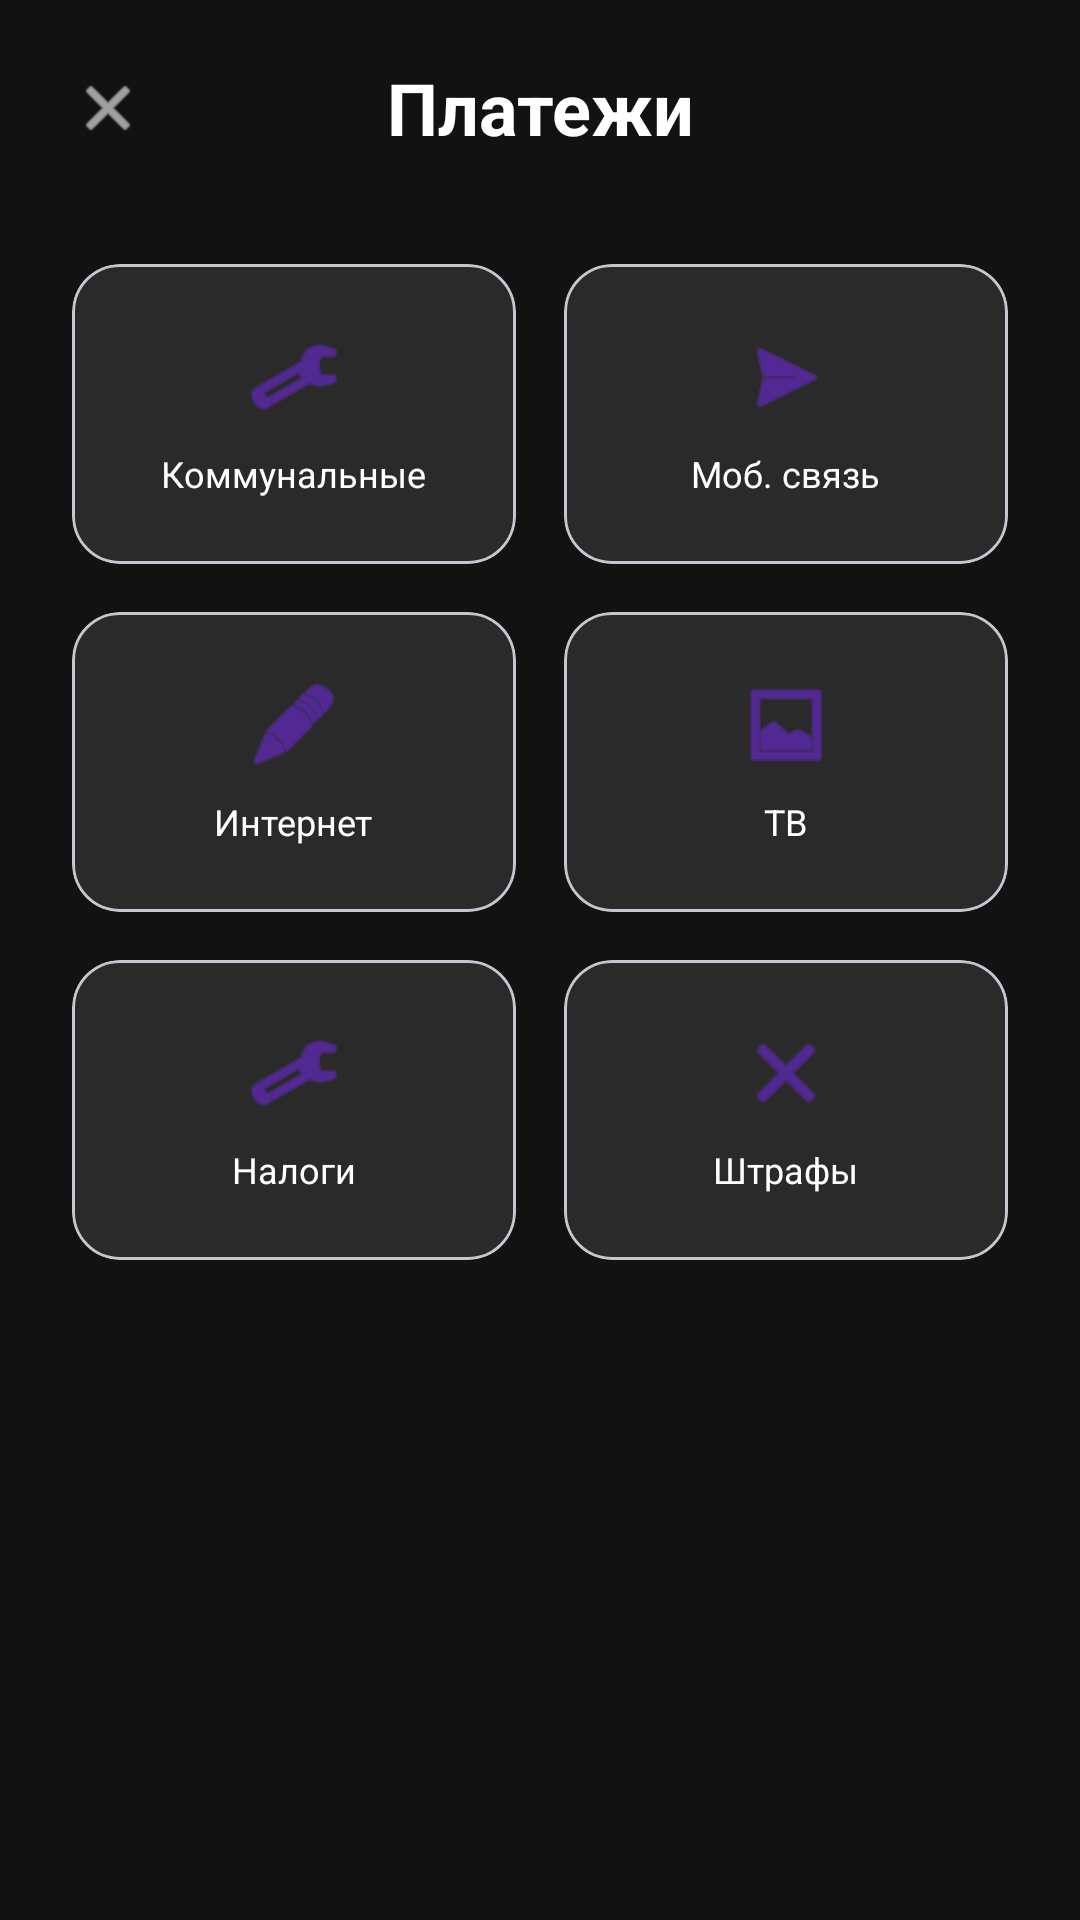

Screen size 1080×1920. Icon name, then its center in pixels as (x,y):
close clear cancel: (786,1073)
edit: (293,724)
gallery: (786,725)
manage: (294,377), (294,1073)
send: (786,377)
Назад: (108,108)
